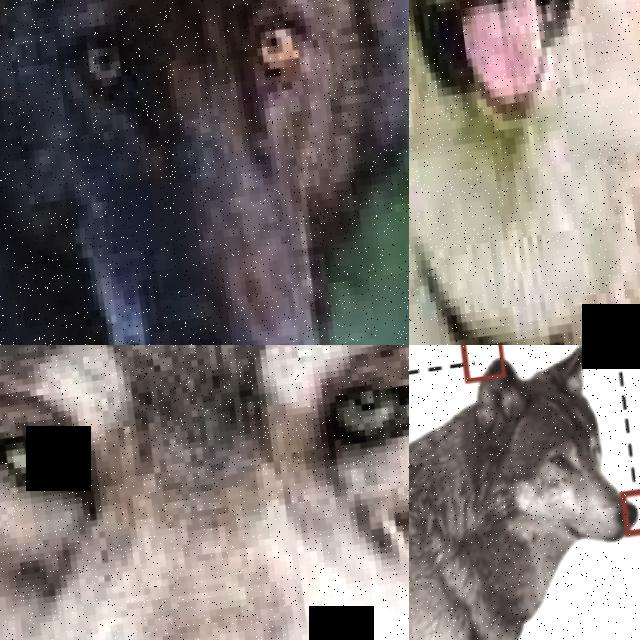dog: (409, 0, 640, 345)
wolf: (0, 0, 409, 345), (0, 345, 409, 640), (409, 345, 640, 640)
